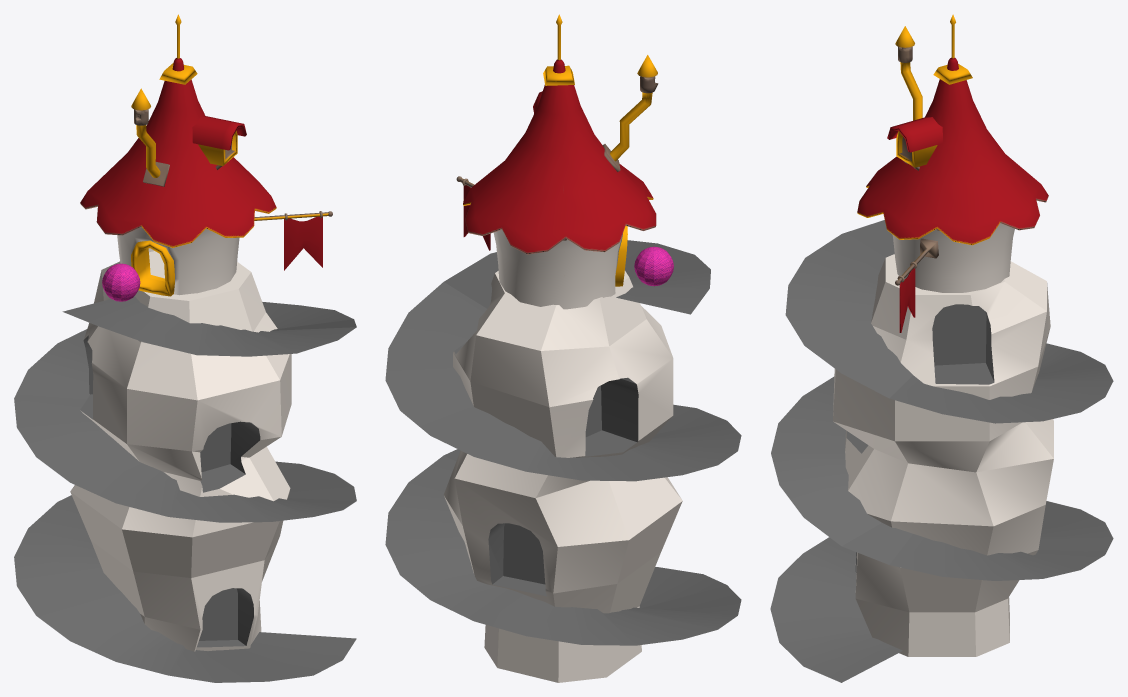
The model's file is towertest.fbx.
3 views of the same model, side by side, from view 1: azimuth 30°, elevation 25°; view 2: azimuth 150°, elevation 25°; view 3: azimuth 270°, elevation 25° (orthographic). The views are drawn at different scales.
Parts seen in each view (by area): view 1: pCube20, pCylinder5, Potion_Shop_Tower_usdz:Mesh, pSphere1; view 2: pCube20, pCylinder5, Potion_Shop_Tower_usdz:Mesh, pSphere1; view 3: pCube20, pCylinder5, Potion_Shop_Tower_usdz:Mesh.
Part boxes in pixels (x1=…): pCube20: x1=70, y1=251, x2=291, y2=651; pCylinder5: x1=14, y1=296, x2=356, y2=682; Potion_Shop_Tower_usdz:Mesh: x1=80, y1=14, x2=332, y2=296; pSphere1: x1=102, y1=263, x2=140, y2=301; pCube20: x1=443, y1=271, x2=682, y2=682; pCylinder5: x1=385, y1=240, x2=741, y2=645; Potion_Shop_Tower_usdz:Mesh: x1=456, y1=14, x2=658, y2=309; pSphere1: x1=634, y1=246, x2=673, y2=286; pCube20: x1=833, y1=254, x2=1053, y2=656; pCylinder5: x1=770, y1=220, x2=1113, y2=682; Potion_Shop_Tower_usdz:Mesh: x1=857, y1=14, x2=1048, y2=332.
Bounding box in the file's own units: 77.55 × 153 × 77.67.
